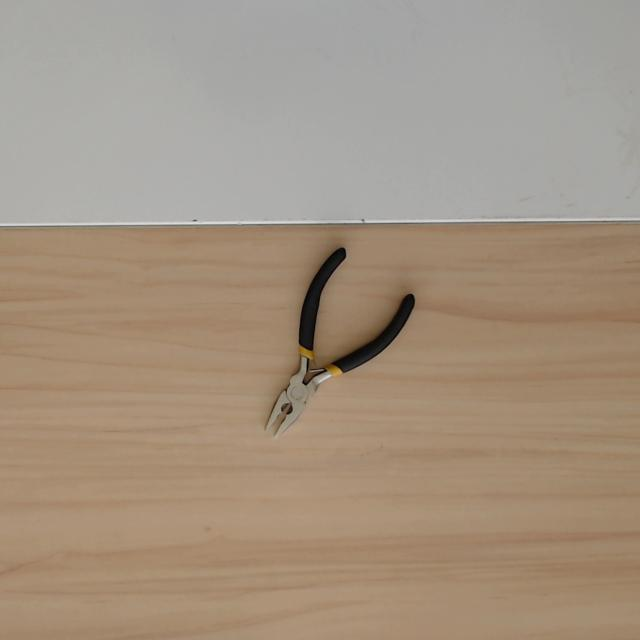Tang-Jepit-Hitam: (231, 246, 423, 466)
